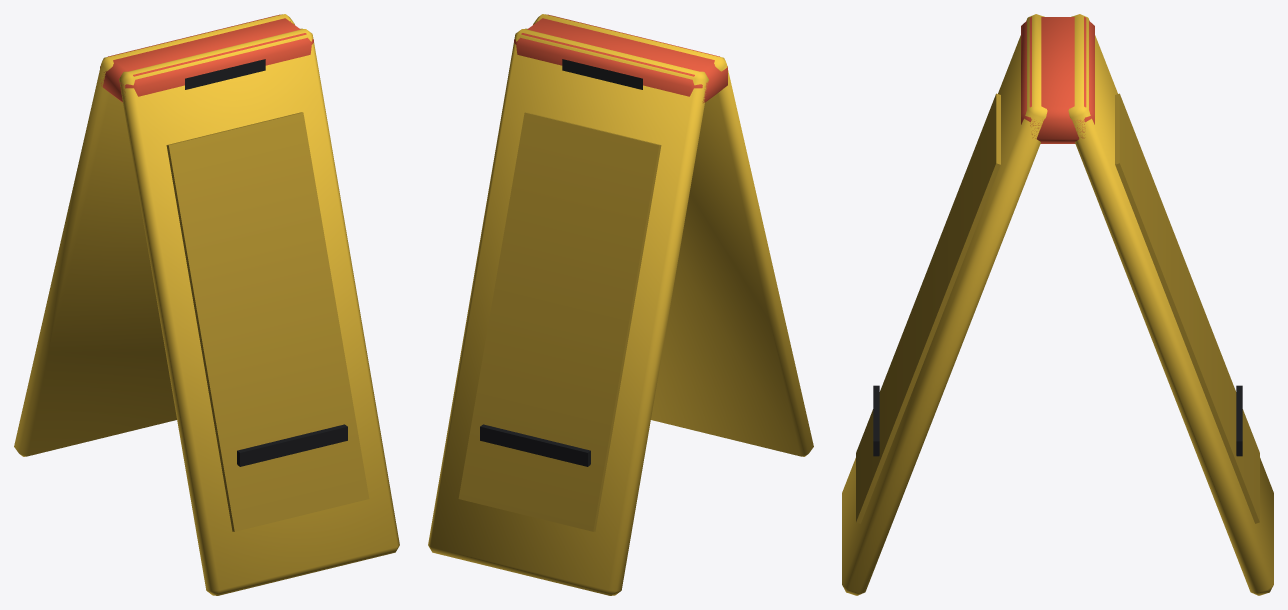
File: WetFloorSign_01.glb
3 views of the same model, side by side, from view 1: azimuth 30°, elevation 25°; view 2: azimuth 150°, elevation 25°; view 3: azimuth 270°, elevation 25° (orthographic). The views are drawn at different scales.
Parts seen in each view (by area): view 1: SM_WetFloorSign_01; view 2: SM_WetFloorSign_01; view 3: SM_WetFloorSign_01.
Boxes of the visible parts, <box> form: SM_WetFloorSign_01: <box>14,14,399,595</box>; SM_WetFloorSign_01: <box>428,14,813,595</box>; SM_WetFloorSign_01: <box>842,14,1273,595</box>.
Bounding box in the file's own units: 0.28 × 0.6547 × 0.5229.
1 material, 1 textured.
